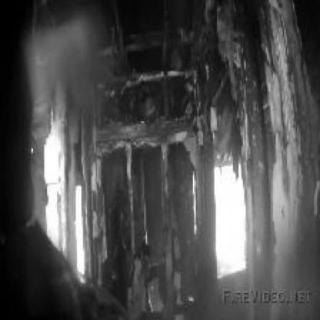other: (196, 153, 254, 275)
